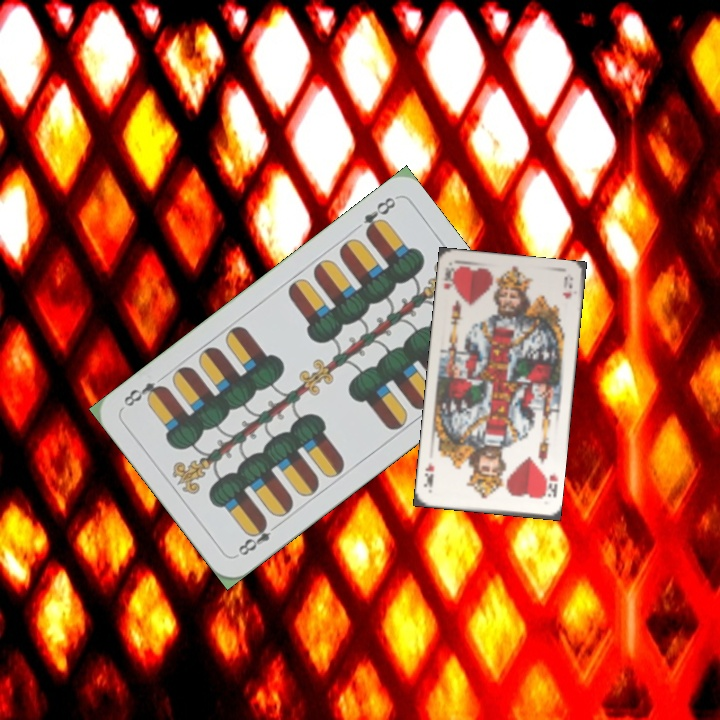E8: (234, 516, 283, 559), (359, 193, 399, 238)
HK: (538, 470, 560, 501), (439, 263, 460, 292)
